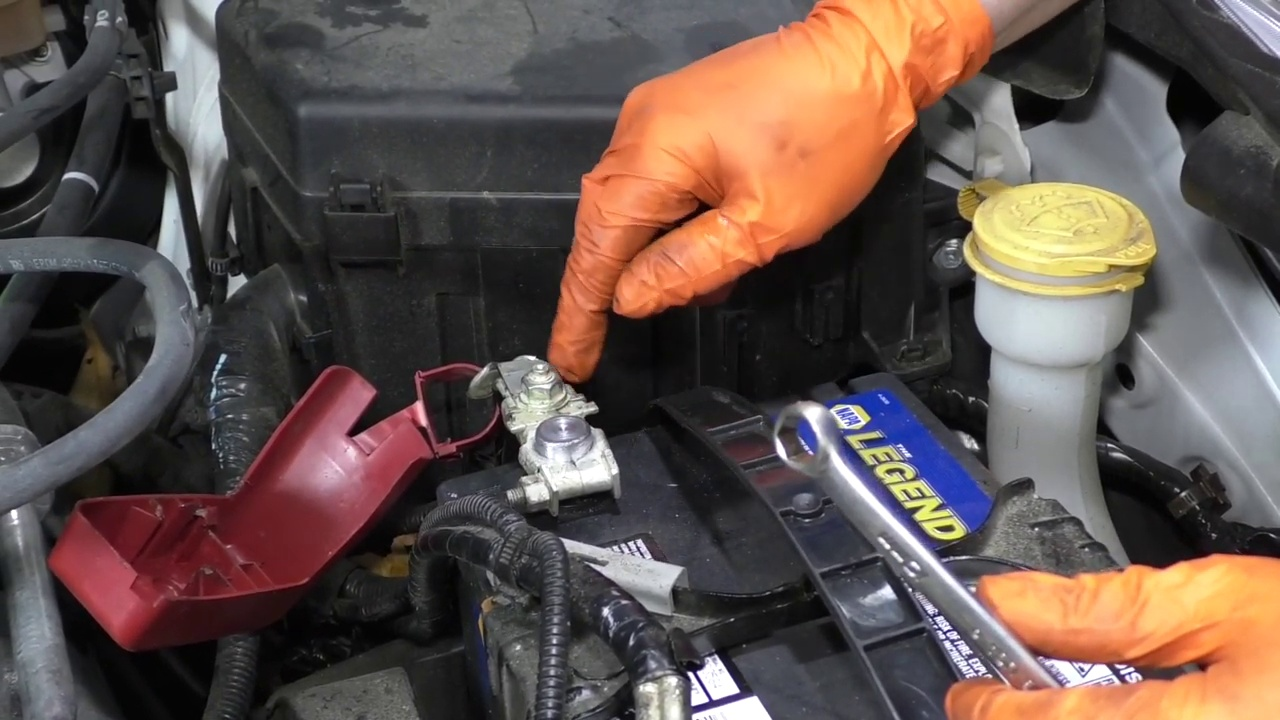battery: (437, 362, 1183, 717)
pos_connected: (321, 327, 608, 525)
pos_touched: (313, 198, 714, 532)
